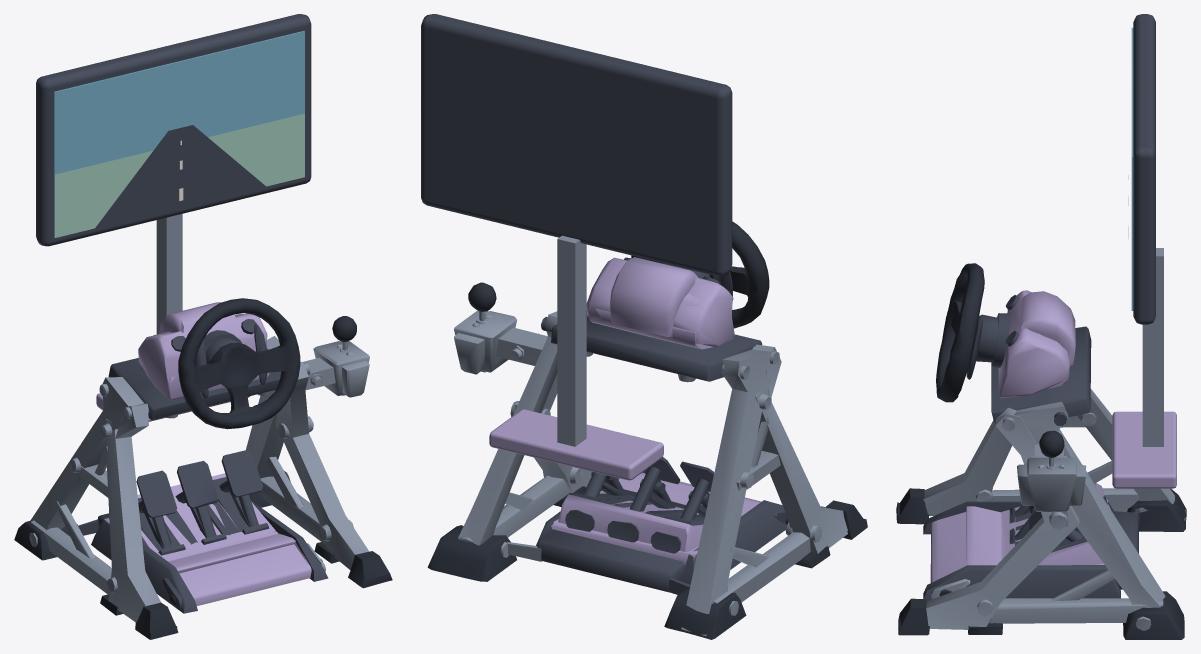
Rendered from gaming_racing.glb.
The picture shows the model from 3 angles, left to right: view 1: azimuth 30°, elevation 25°; view 2: azimuth 150°, elevation 25°; view 3: azimuth 270°, elevation 25°; orthographic projection. The views are drawn at different scales.
Bounding box in the file's own units: 1.6 × 2.58 × 1.35.
